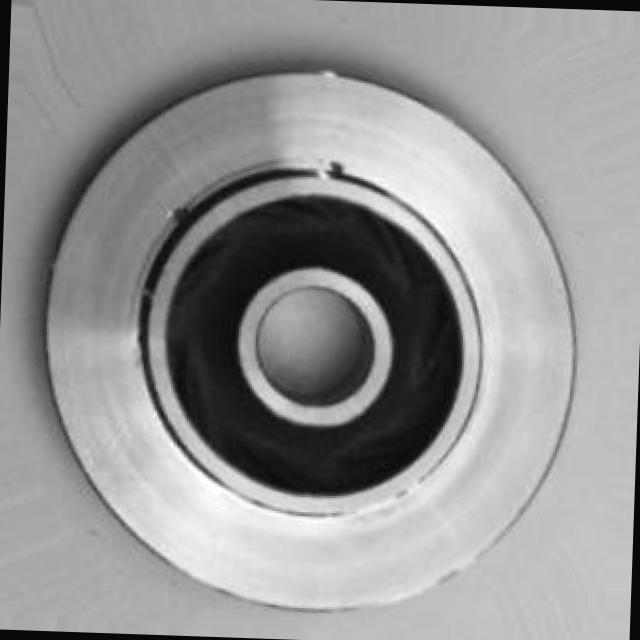Defect: (314, 154, 362, 187)
